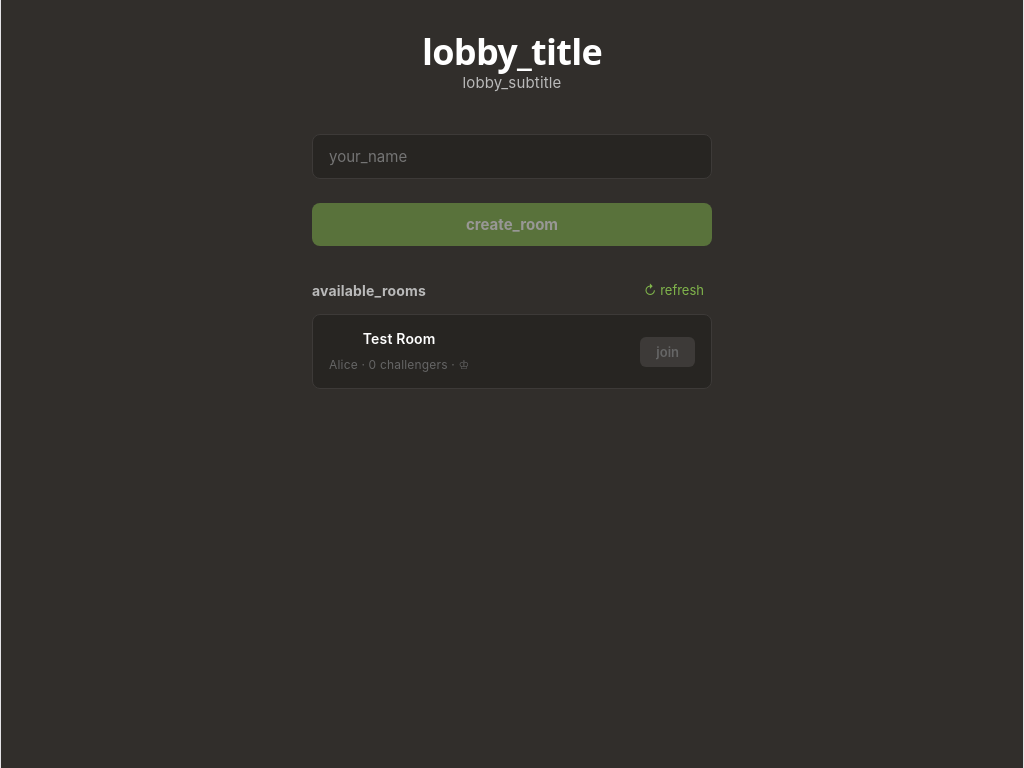
Lobby › join button is enabled for waiting rooms when name is filled
In the field with placeholder "your_name": (512, 157) [312, 134, 712, 179], type "Bob"
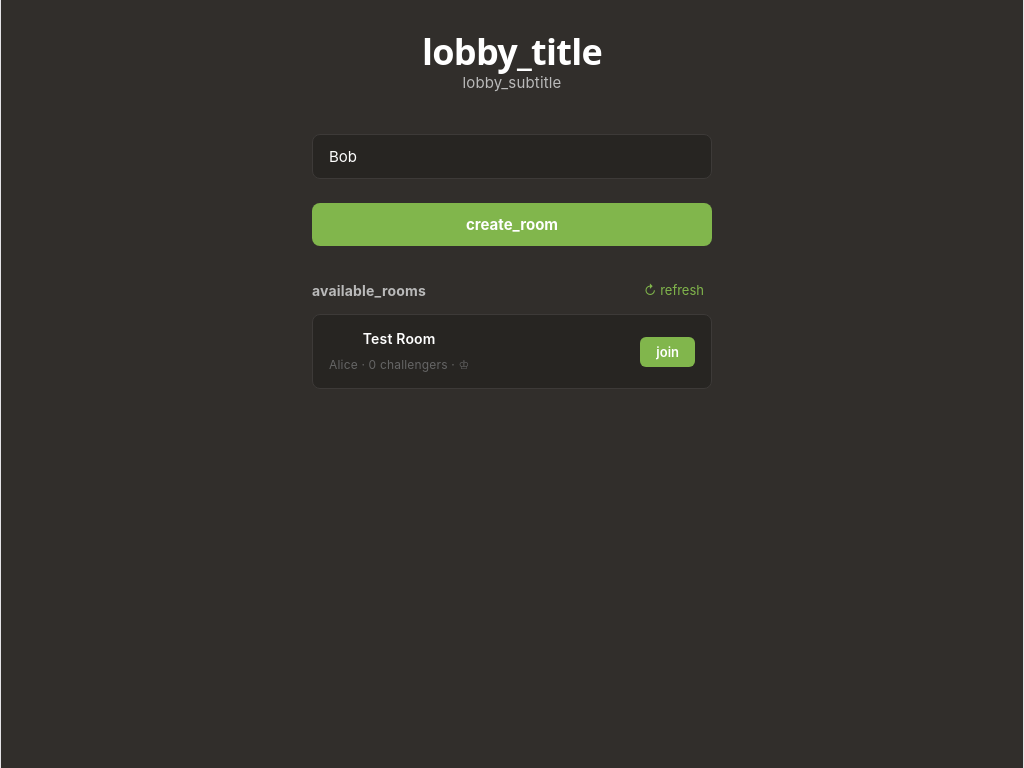
Check: the button "join" is enabled, box [640, 337, 695, 367]
